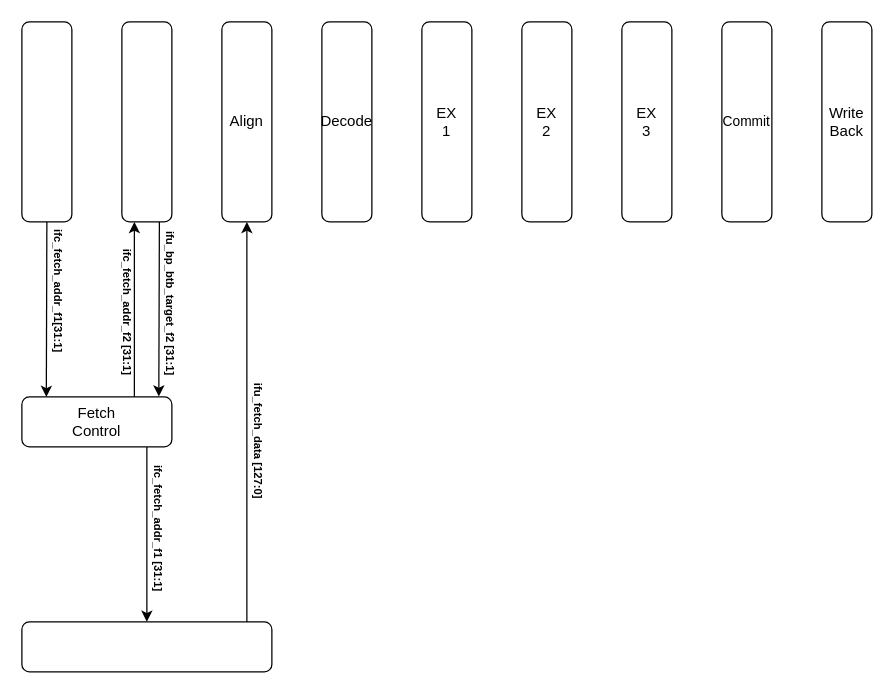
This 894x694 diagram has some shape labels left out. Each missing label, with the box of its shape:
Fetch 1: (21, 21, 72, 222)
Fetch 2: (121, 21, 172, 222)
I-Cache: (21, 621, 272, 672)
